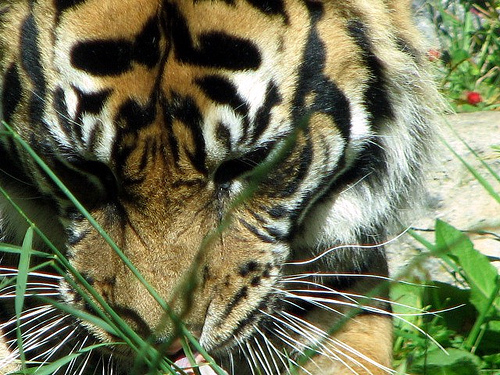Tigre: (19, 15, 414, 328)
